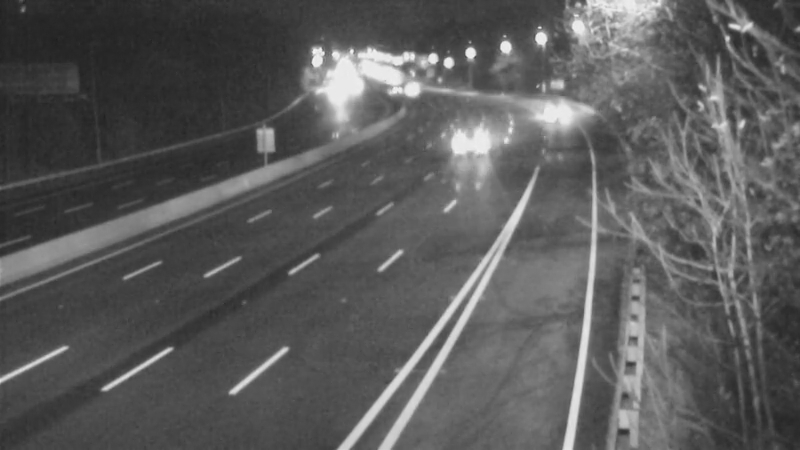vehicle: (518, 77, 568, 127), (433, 119, 483, 169)
